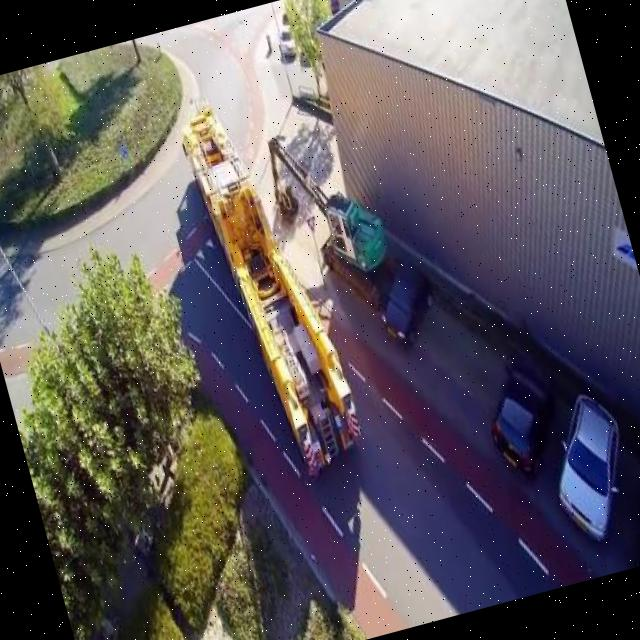Excavator: (252, 110, 403, 334)
Mobile Crane: (171, 82, 372, 488)
